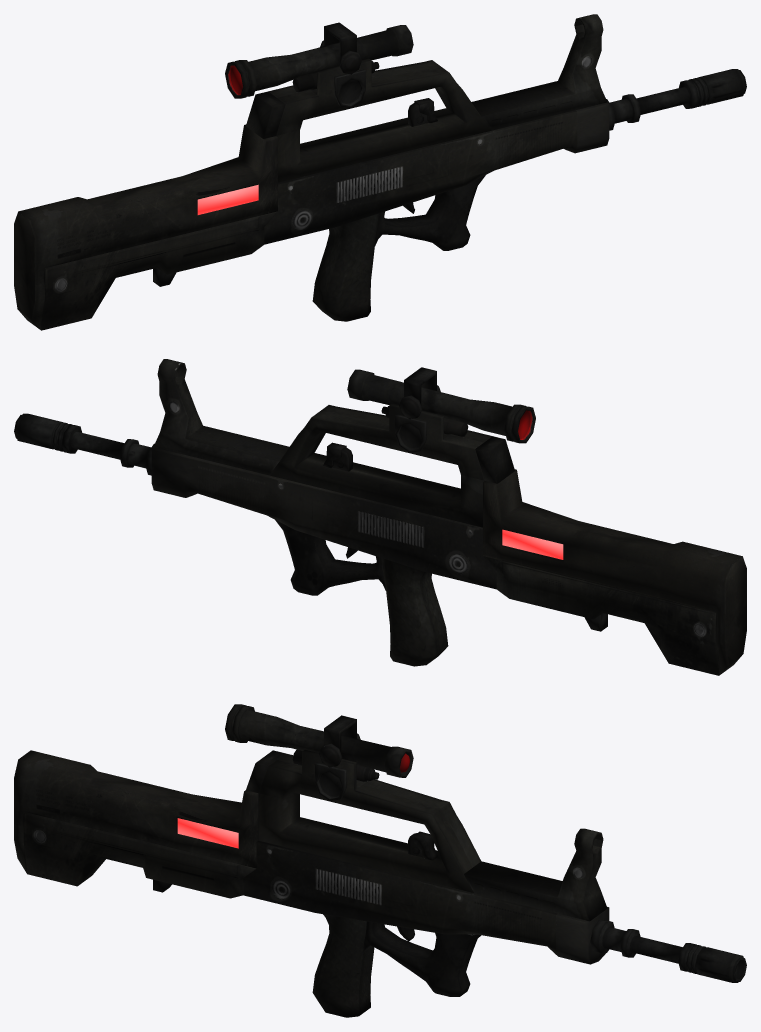
File: Gun.FBX
The picture shows the model from 3 angles, top to bottom: view 1: azimuth 30°, elevation 25°; view 2: azimuth 150°, elevation 25°; view 3: azimuth 330°, elevation 25°; orthographic projection.
Parts seen in each view (by area): view 1: Gun, Energia; view 2: Gun, Energia; view 3: Gun, Energia.
Boxes of the visible parts, bbox=[...] form: Gun: bbox=[14, 14, 746, 330]; Energia: bbox=[197, 184, 258, 214]; Gun: bbox=[14, 359, 746, 675]; Energia: bbox=[502, 529, 563, 559]; Gun: bbox=[14, 704, 746, 1017]; Energia: bbox=[177, 818, 238, 848].
Size of the model in its own units: 117 by 44.25 by 6.14.
